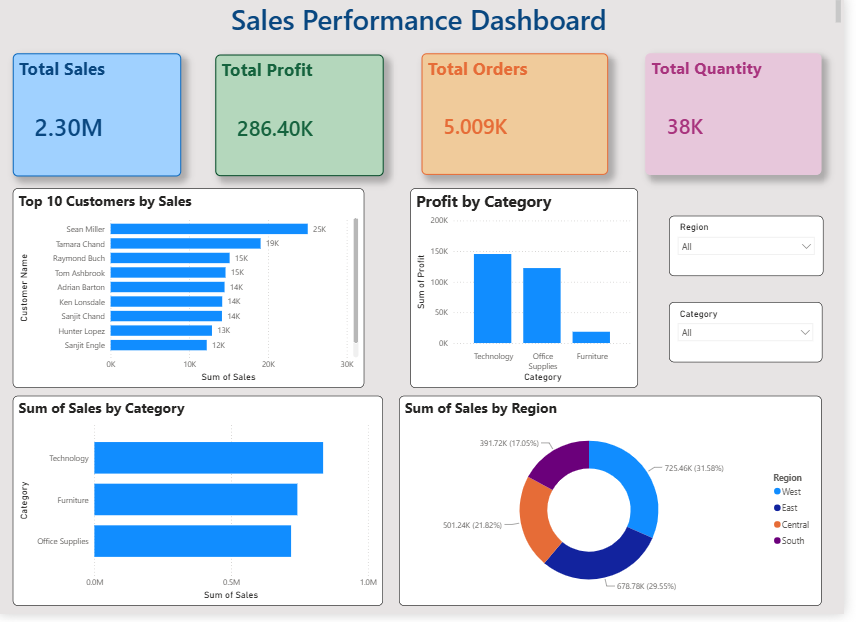

This screenshot's page, from the dashboard's own definition file:
{"tool":"powerbi","page":{"name":"Page 1","canvas":[1300,950],"ordinal":0},"visuals":[{"type":"textbox","box":[0,0,1300,66.1],"z":0},{"type":"cardVisual","title":"Total Sales","fields":{"Data":["Sum(Sample - Superstore.Sales)"]},"box":[21.4,87.5,258.9,189.3],"z":1000},{"type":"cardVisual","title":"Total Profit","fields":{"Data":["Sum(Sample - Superstore.Profit)"]},"box":[332.1,89.3,258.9,187.5],"z":2000},{"type":"clusteredBarChart","fields":{"Category":["Sample - Superstore.Category"],"Y":["Sum(Sample - Superstore.Sales)"]},"box":[21.4,614.3,569.6,323.2],"z":3000},{"type":"donutChart","fields":{"Category":["Sample - Superstore.Region"],"Y":["Sum(Sample - Superstore.Sales)"]},"box":[616.1,614.3,650,323.2],"z":4000},{"type":"cardVisual","title":"Total Orders","fields":{"Data":["Count(Sample - Superstore.Order ID)"]},"box":[650,87.5,287.5,187.5],"z":5000},{"type":"clusteredColumnChart","title":" Profit by Category","fields":{"Category":["Sample - Superstore.Category"],"Y":["Sum(Sample - Superstore.Profit)"]},"box":[632.1,294.6,350,307.1],"z":7000},{"type":"slicer","fields":{"Values":["Sample - Superstore.Category"]},"box":[1030.4,469.6,235.7,92.9],"z":9000},{"type":"cardVisual","title":"Total Quantity","fields":{"Data":["Sum(Sample - Superstore.Quantity)"]},"box":[994.6,87.5,271.4,187.5],"z":10000},{"type":"clusteredBarChart","title":"Top 10 Customers by Sales","fields":{"Category":["Sample - Superstore.Customer Name"],"Y":["Sum(Sample - Superstore.Sales)"]},"box":[21.4,294.6,541.1,307.1],"z":10001},{"type":"slicer","fields":{"Values":["Sample - Superstore.Region"]},"box":[1030.4,337.5,237.5,92.9],"z":10002}]}

Visuals, with their boxes in screenshot pixels (x1, y1, x2, y2), scaled from the page's 1300x950 canvas onto the 856x622 screenshot:
textbox: <box>0,0,855,43</box>
"Total Sales" cardVisual: <box>14,57,185,181</box>
"Total Profit" cardVisual: <box>219,58,389,181</box>
clusteredBarChart - Sample - Superstore.Category x Sum(Sample - Superstore.Sales): <box>14,402,389,614</box>
donutChart - Sample - Superstore.Region x Sum(Sample - Superstore.Sales): <box>406,402,834,614</box>
"Total Orders" cardVisual: <box>428,57,617,180</box>
" Profit by Category" clusteredColumnChart: <box>416,193,647,394</box>
slicer - Sample - Superstore.Category: <box>678,307,834,368</box>
"Total Quantity" cardVisual: <box>655,57,834,180</box>
"Top 10 Customers by Sales" clusteredBarChart: <box>14,193,370,394</box>
slicer - Sample - Superstore.Region: <box>678,221,835,282</box>
